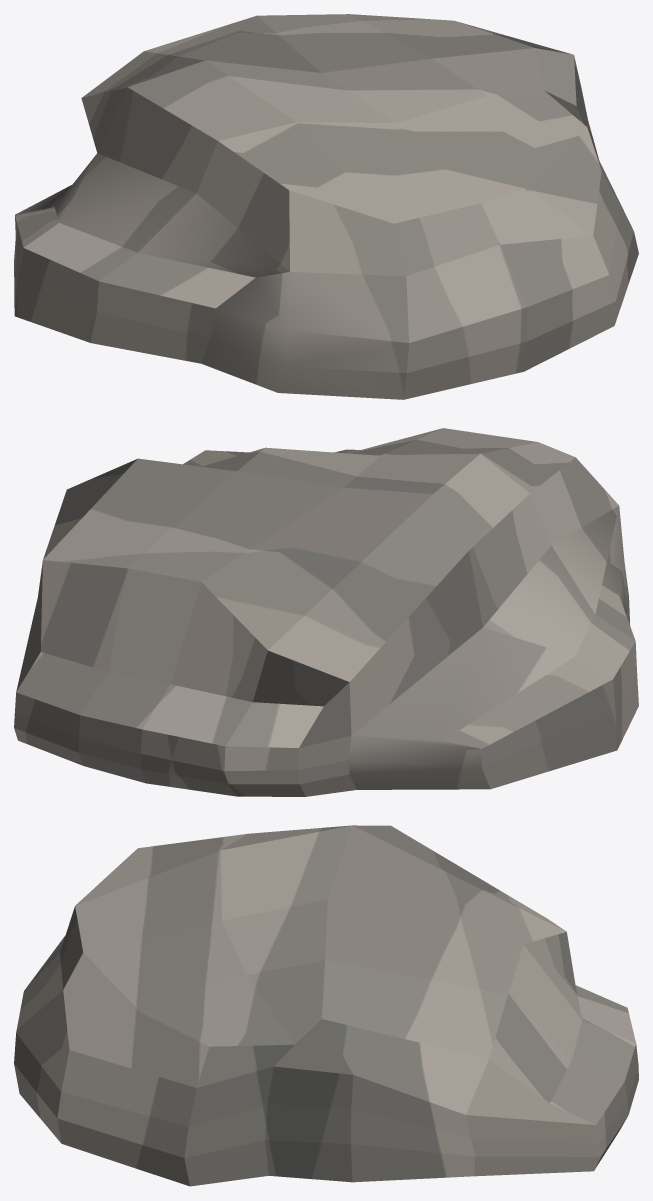
The model's file is Rock4_Final.fbx.
3 views of the same model, one above another, from view 1: azimuth 30°, elevation 25°; view 2: azimuth 150°, elevation 25°; view 3: azimuth 270°, elevation 25° (orthographic). The views are drawn at different scales.
Visible parts, largest first — view 1: pCube1; view 2: pCube1; view 3: pCube1.
Boxes of the visible parts, box(x1,y1,x2,y2) form: pCube1: box(14, 14, 638, 399); pCube1: box(14, 428, 638, 796); pCube1: box(14, 825, 638, 1186).
Bounding box in the file's own units: 18.75 × 7.16 × 18.88.
